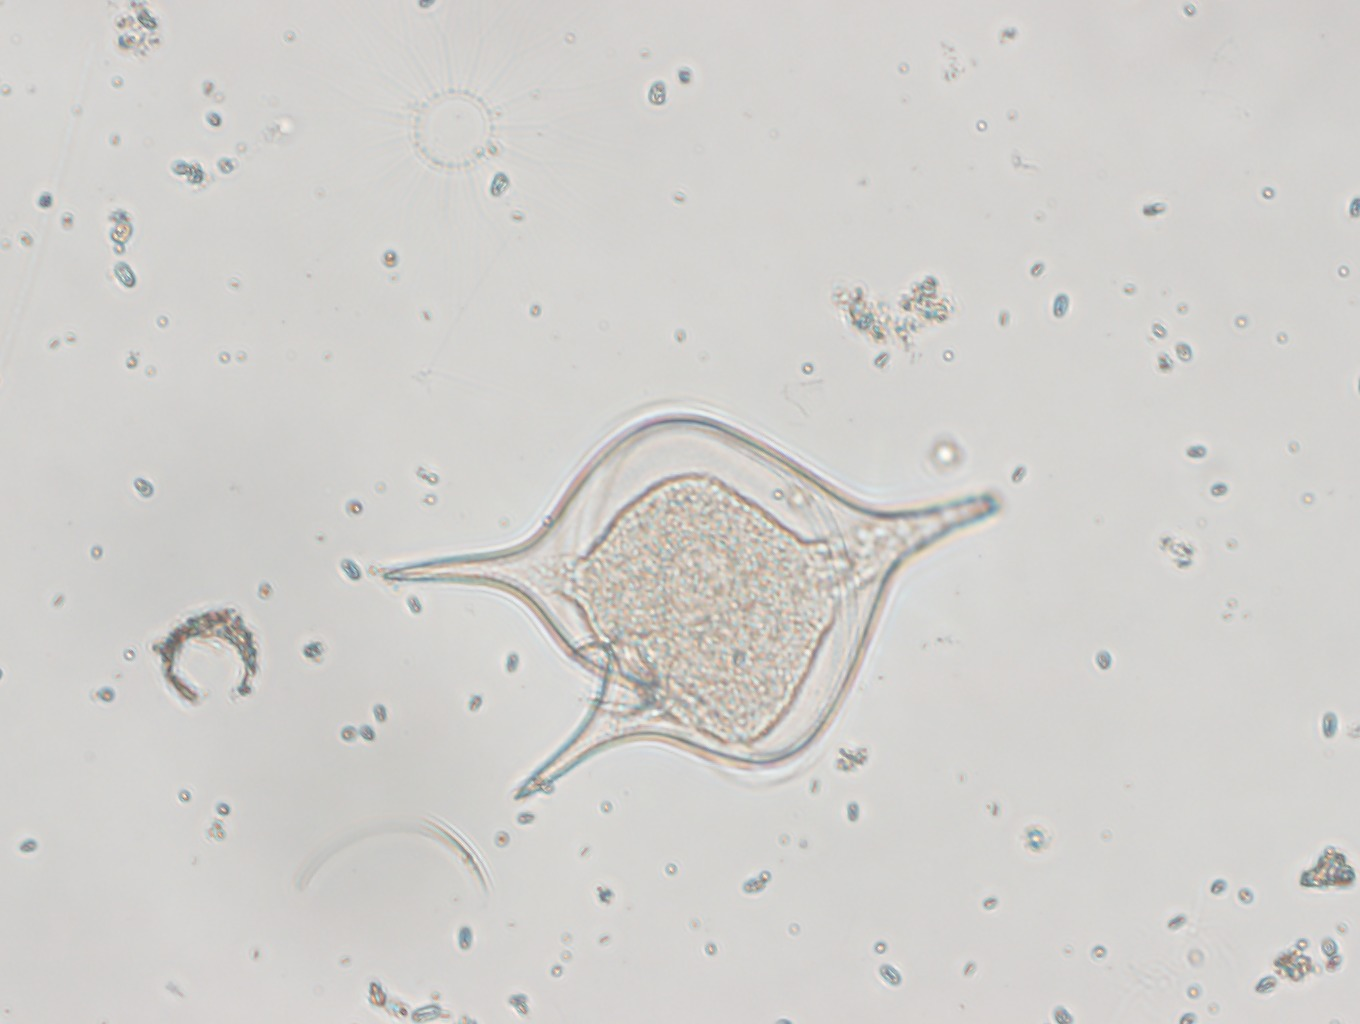bacteriastrum: (317, 31, 584, 252)
protoperidinium: (381, 409, 1004, 807)
